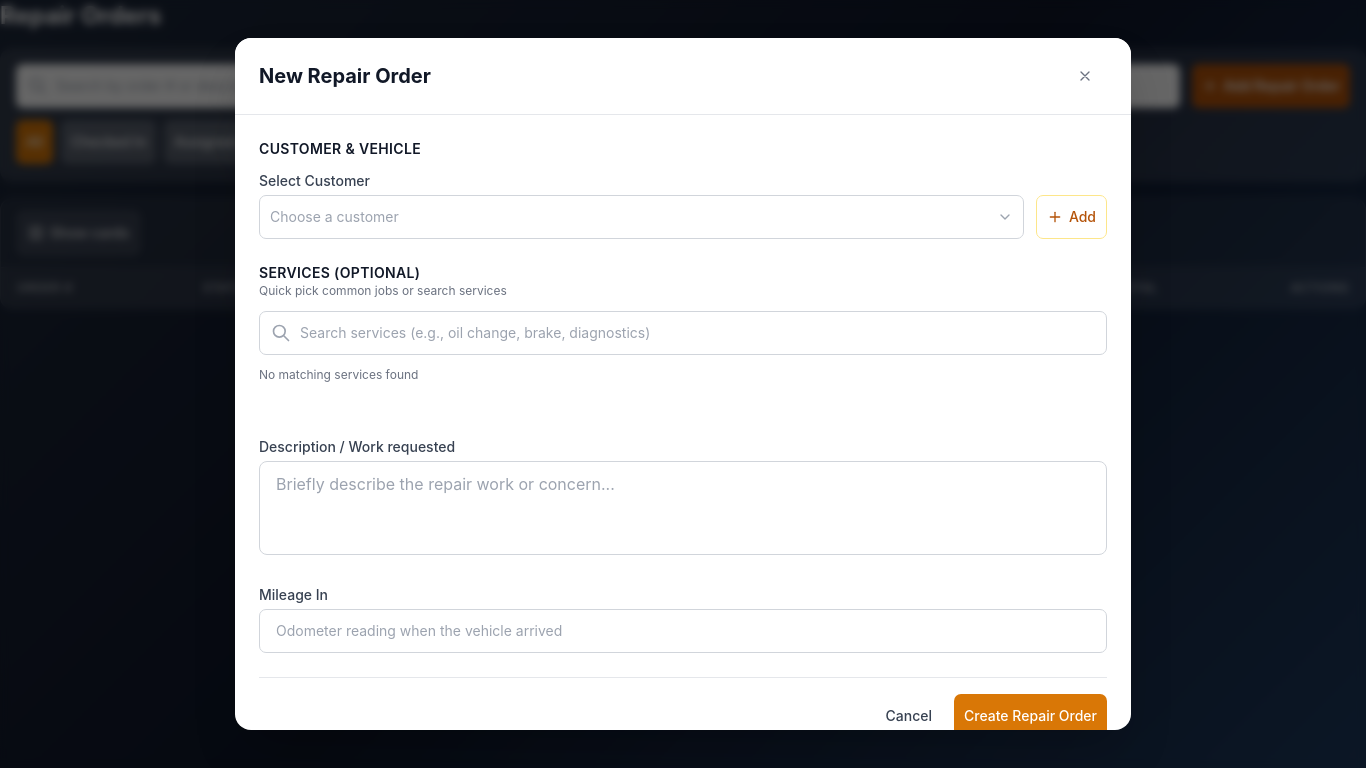
Test: RepairOrdersPage request cancellation › returns from the new-customer form to customer search without closing the repair-order modal
Expected: the heading "New Repair Order" is shown, top-left (259, 62), bottom-right (431, 90)
Click the button "Choose a customer". click: [334, 217]
box: top-left (259, 195), bottom-right (1024, 239)
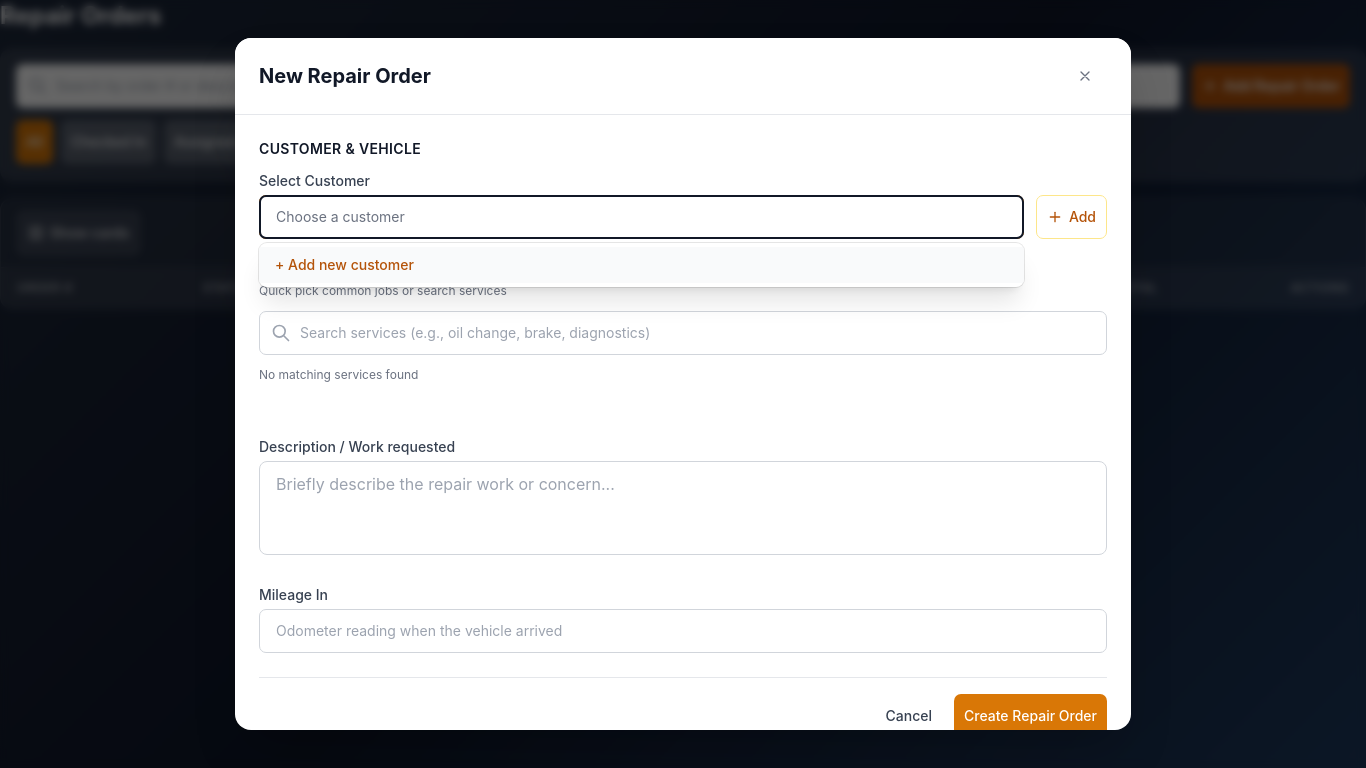
Press the mouse on the option "+ Add new customer" at [344, 265], box top-left (259, 247), bottom-right (1024, 283)
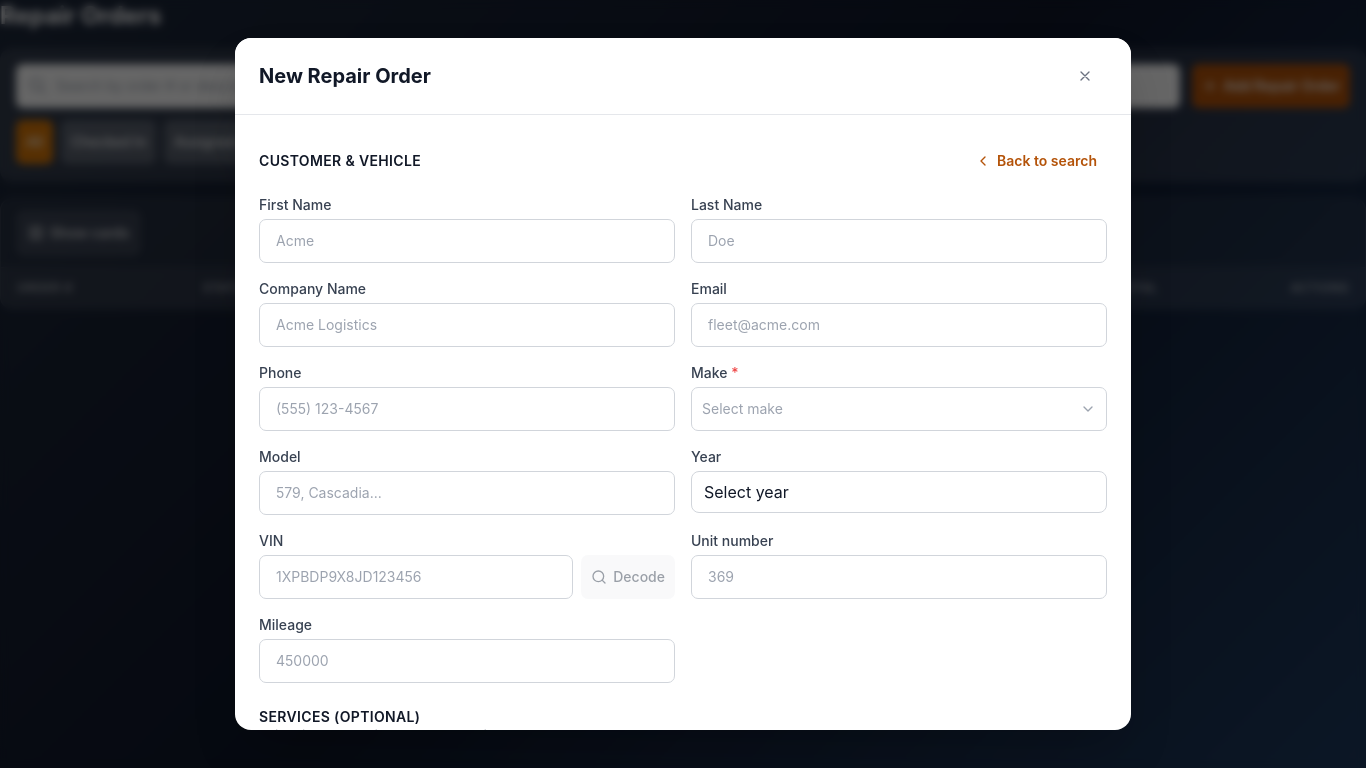
Result: the field with placeholder "Acme" is shown at top-left (259, 219), bottom-right (675, 263)
Click the button with aria-label "Back to customer search". click: [1036, 161]
box: top-left (965, 139), bottom-right (1107, 183)
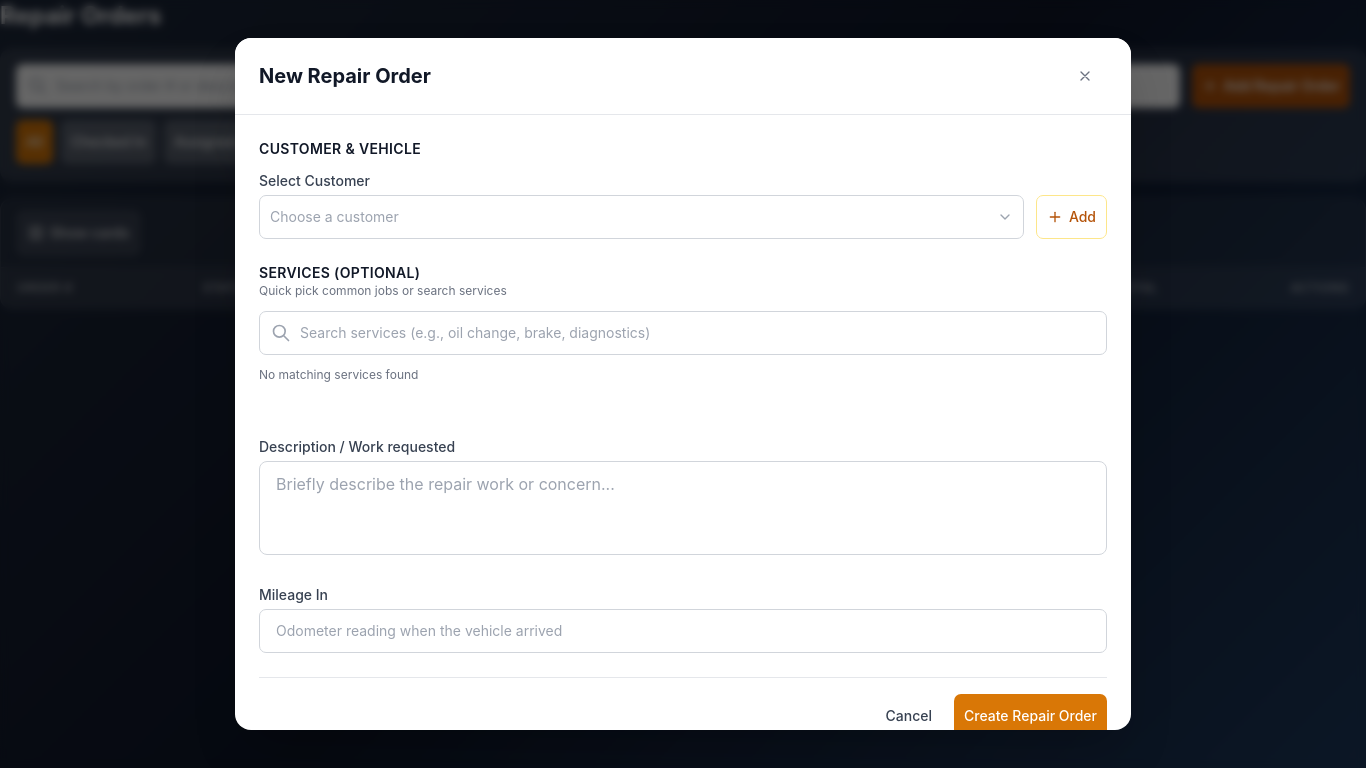
Expected: the heading "New Repair Order" is shown, top-left (259, 62), bottom-right (431, 90)
Result: the button "Choose a customer" is shown at top-left (259, 195), bottom-right (1024, 239)
Result: the field with placeholder "Acme" is gone
